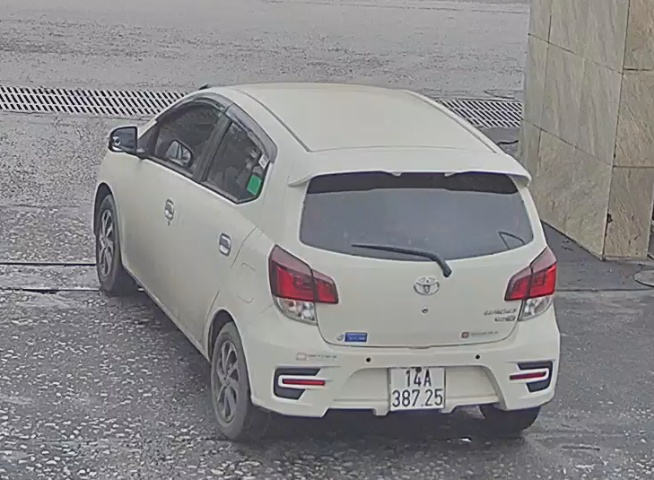vehicle plate: (381, 358, 449, 412)
